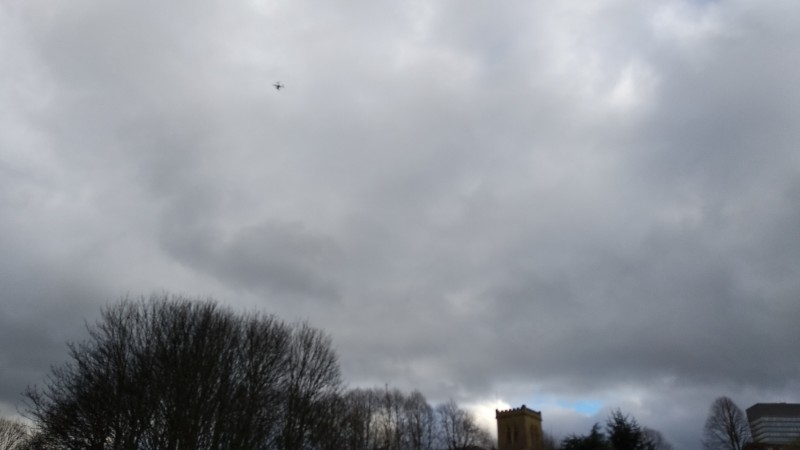drone: (274, 81, 285, 90)
